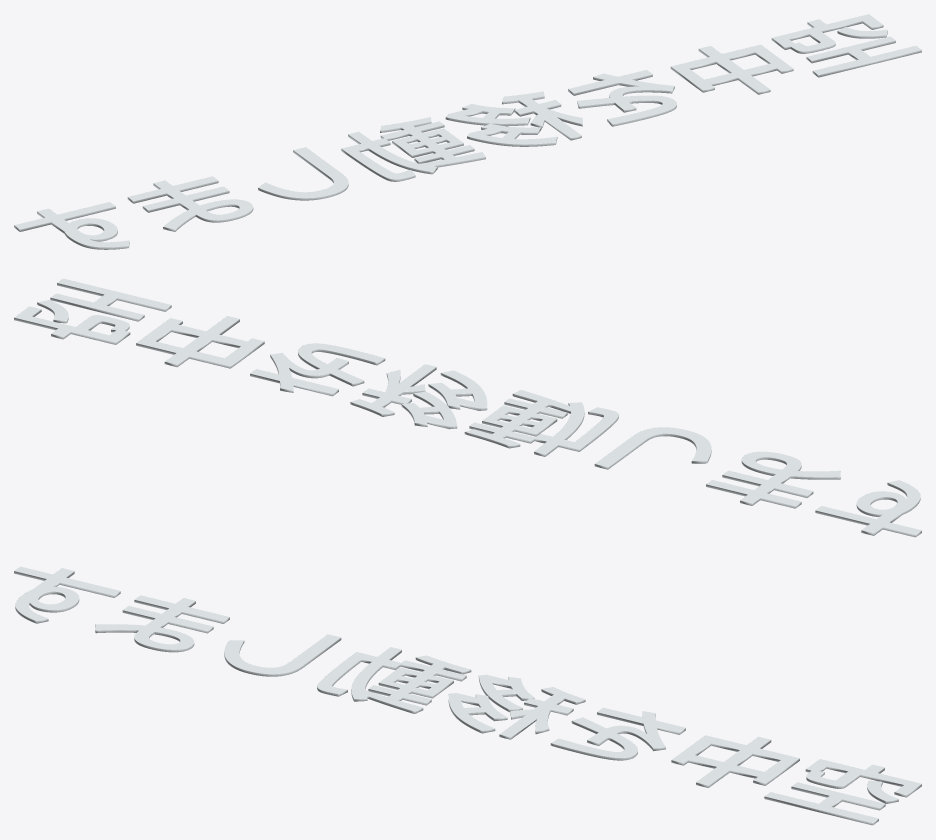
File: stage2_glider_detail.obj
The picture shows the model from 3 angles, top to bottom: view 1: azimuth 30°, elevation 25°; view 2: azimuth 150°, elevation 25°; view 3: azimuth 330°, elevation 25°; orthographic projection. The views are drawn at different scales.
Parts seen in each view (by area): view 1: stage2_glider_detail; view 2: stage2_glider_detail; view 3: stage2_glider_detail.
Boxes of the visible parts, box(x1,y1,x2,y2) form: stage2_glider_detail: box(14, 14, 921, 249); stage2_glider_detail: box(14, 278, 921, 537); stage2_glider_detail: box(14, 566, 921, 825).
Size of the model in its own units: 4.3 by 0.0119 by 0.5255.
Materials: 1 (1 with a texture image).
